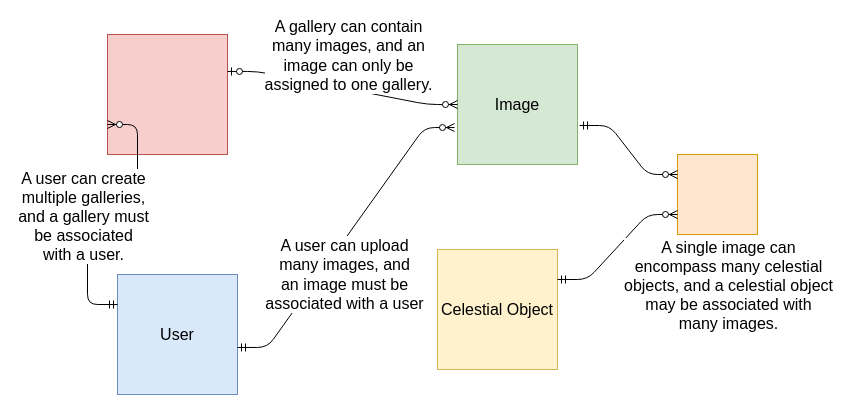
This 850x413 diagram has some shape labels left out. Each missing label, with the centre of its shape:
Celestial Object Image: point (717, 194)
Gallery: point (167, 94)
